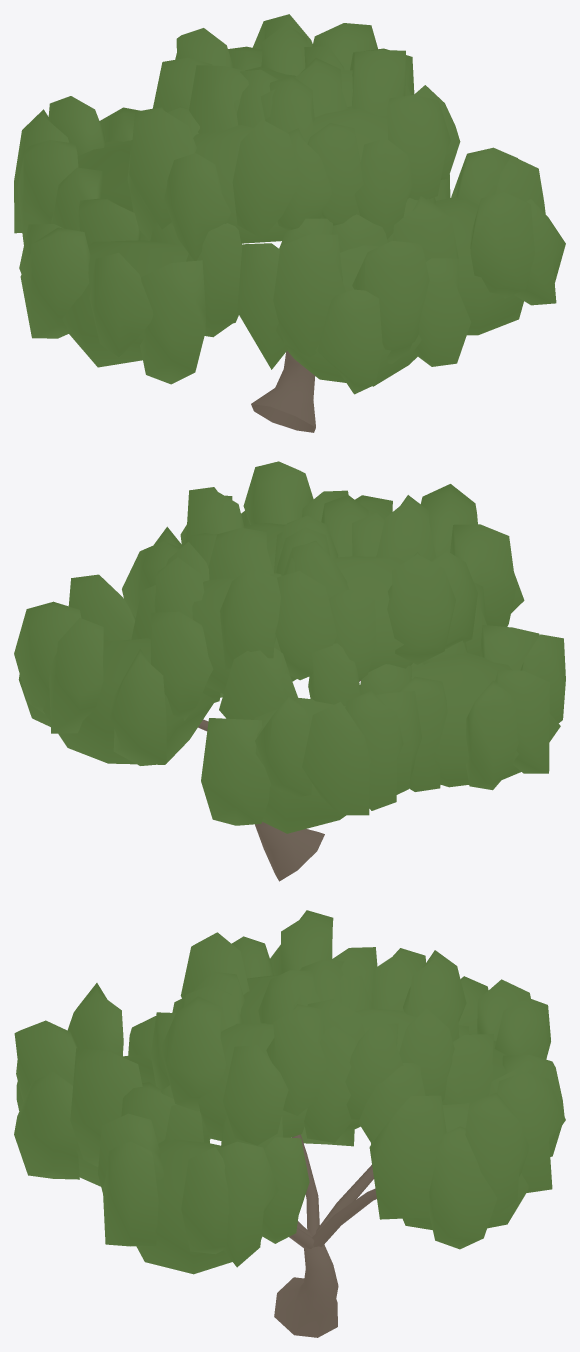
Rendered from Blender_PinyonPine_1.glb.
3 views of the same model, one above another, from view 1: azimuth 30°, elevation 25°; view 2: azimuth 150°, elevation 25°; view 3: azimuth 270°, elevation 25° (orthographic). The views are drawn at different scales.
Visible parts, largest first — view 1: Blender_PinyonPine_1; view 2: Blender_PinyonPine_1; view 3: Blender_PinyonPine_1.
Boxes of the visible parts, x1,y1,x2,y2 form: Blender_PinyonPine_1: [14, 14, 565, 432]; Blender_PinyonPine_1: [14, 461, 565, 881]; Blender_PinyonPine_1: [14, 910, 565, 1337].
Bounding box in the file's own units: 6.83 × 5.11 × 7.
